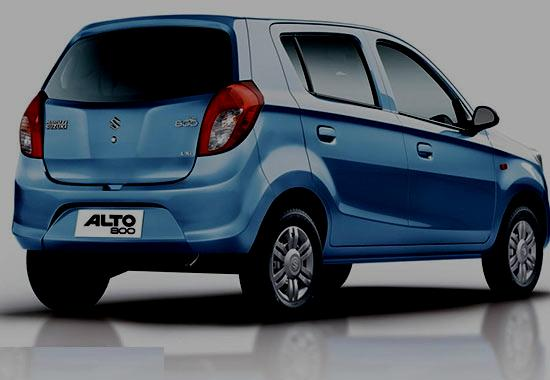suzuki: (106, 110, 126, 135)
